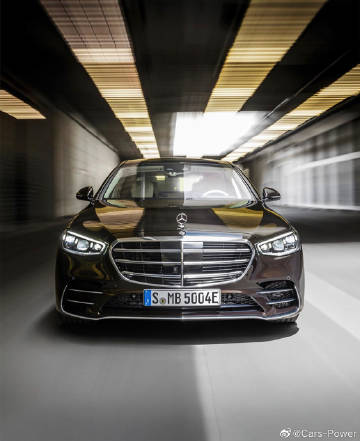other: (57, 152, 308, 331)
